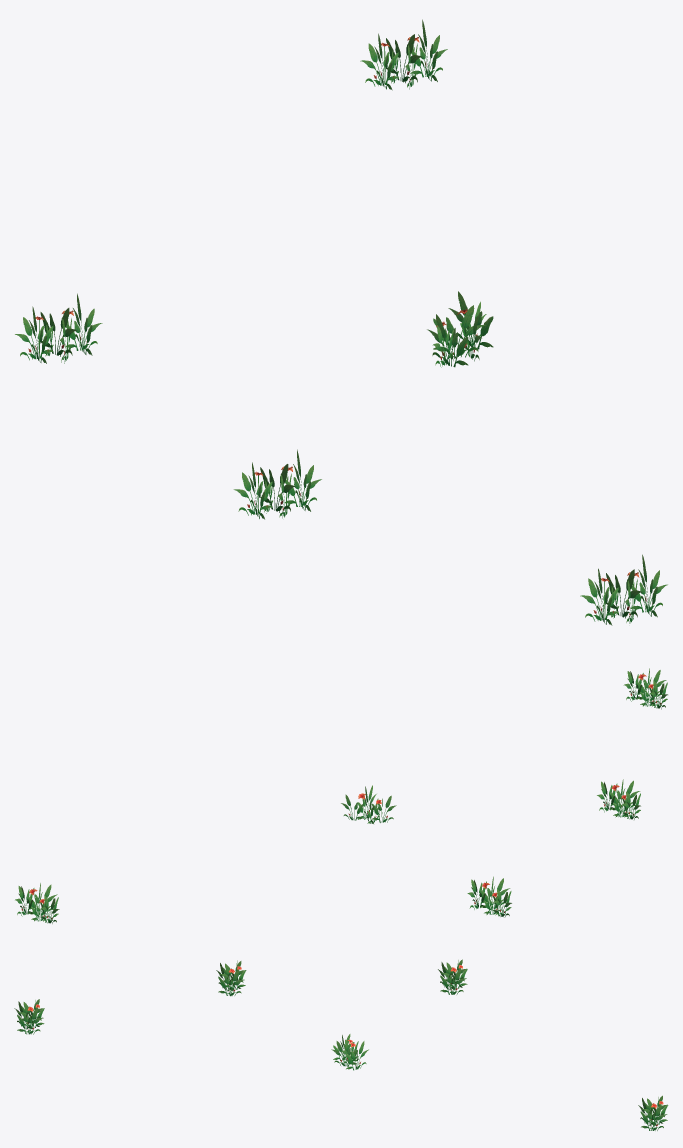
The model's file is area_12_14.fbx.
3 renders of one model, top to bottom at view 1: azimuth 30°, elevation 25°; view 2: azimuth 150°, elevation 25°; view 3: azimuth 270°, elevation 25°, orthographic. The views are drawn at different scales.
Visible parts, largest first — view 1: area_12_14; view 2: area_12_14; view 3: area_12_14.
Boxes of the visible parts, box(x1,y1,x2,y2) form: area_12_14: box(15, 19, 667, 625); area_12_14: box(15, 668, 667, 923); area_12_14: box(14, 959, 668, 1130).
Size of the model in its own units: 18.63 by 1.55 by 33.07.
